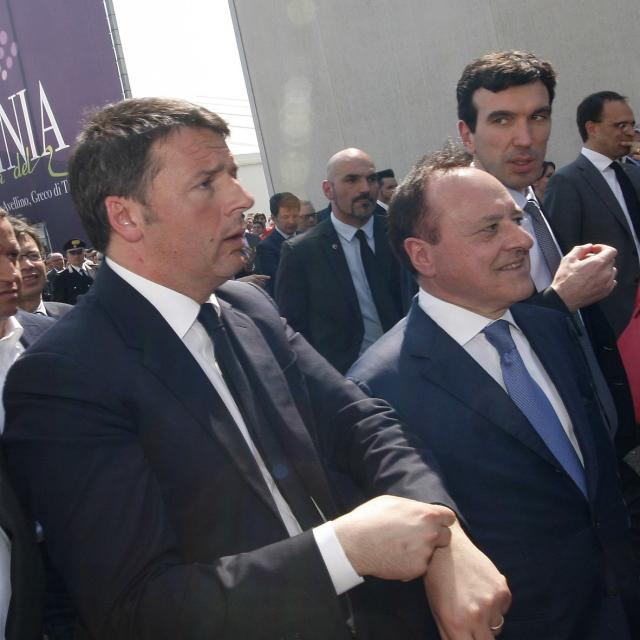body: (0, 86, 530, 640), (340, 149, 640, 640), (457, 51, 636, 456), (272, 147, 410, 386), (542, 89, 639, 344), (0, 206, 120, 368), (240, 190, 320, 260), (376, 168, 424, 211), (533, 160, 559, 201), (622, 126, 640, 170)
